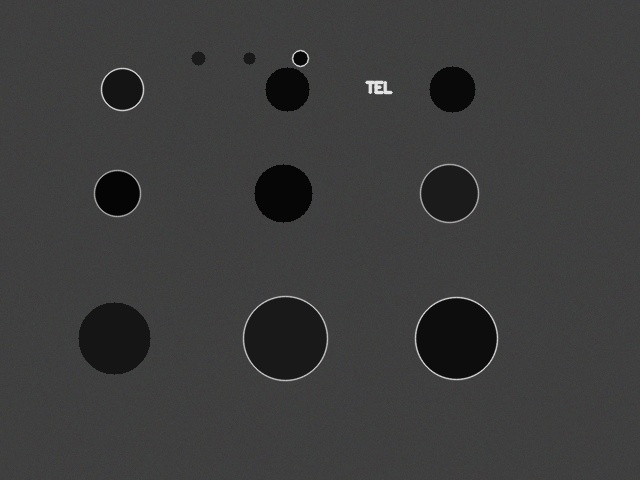hole: (243, 296, 327, 380), (415, 297, 497, 379), (78, 302, 150, 374), (254, 164, 312, 222), (420, 164, 478, 222), (429, 66, 475, 112), (94, 170, 140, 216), (265, 67, 309, 111), (101, 68, 143, 110), (292, 50, 308, 66), (191, 51, 205, 65), (243, 52, 255, 64)
